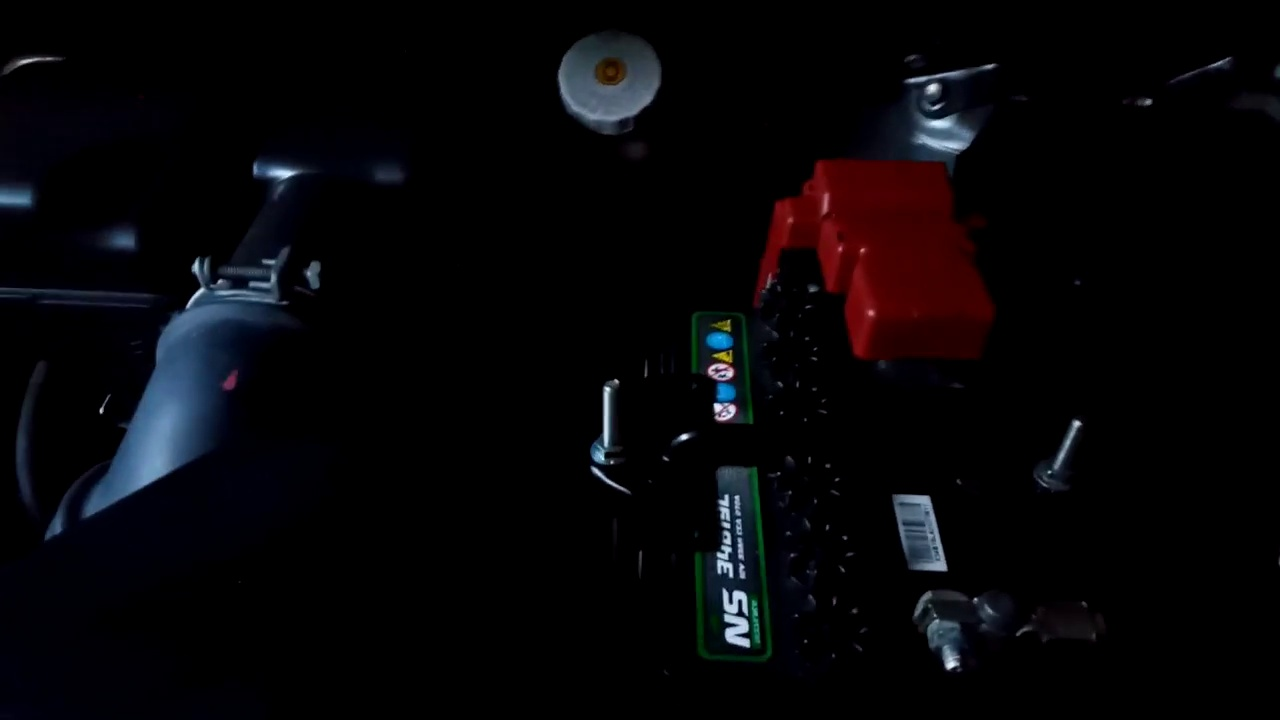battery: (659, 271, 1026, 675)
neg_connected: (867, 539, 1116, 662)
pos_connected: (749, 188, 992, 376)
